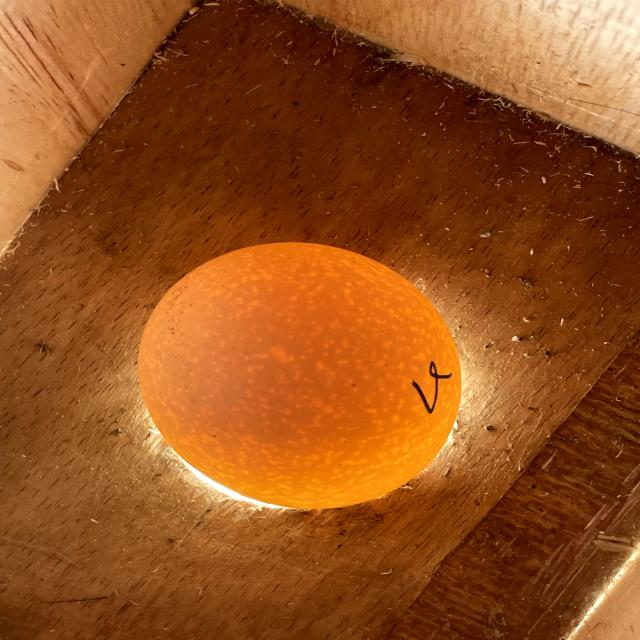infertile: (138, 242, 462, 509)
